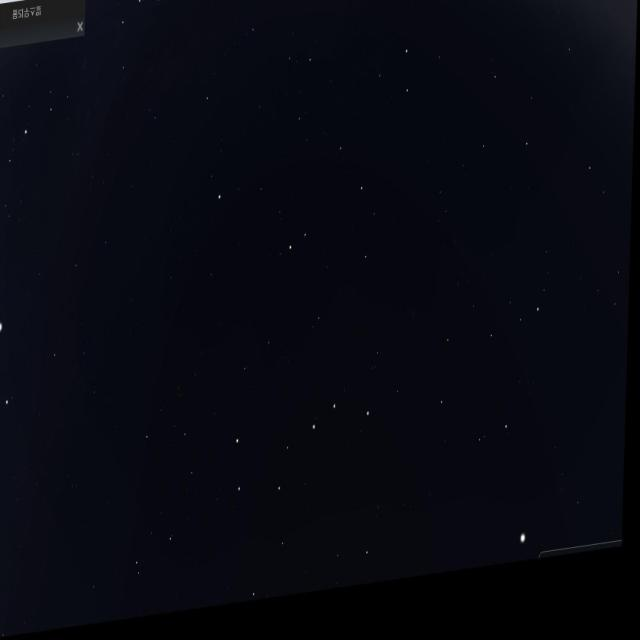ursa_major: (230, 382, 382, 515)
